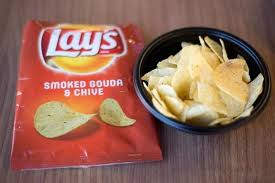lays-small: (25, 17, 150, 168)
